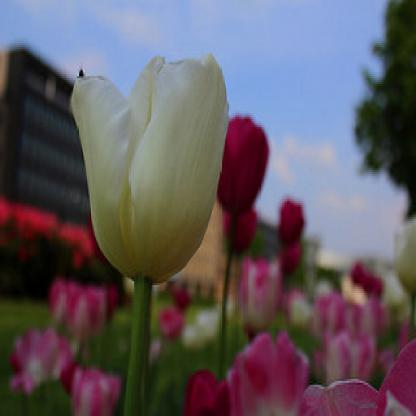TULIP: (46, 13, 272, 306)
